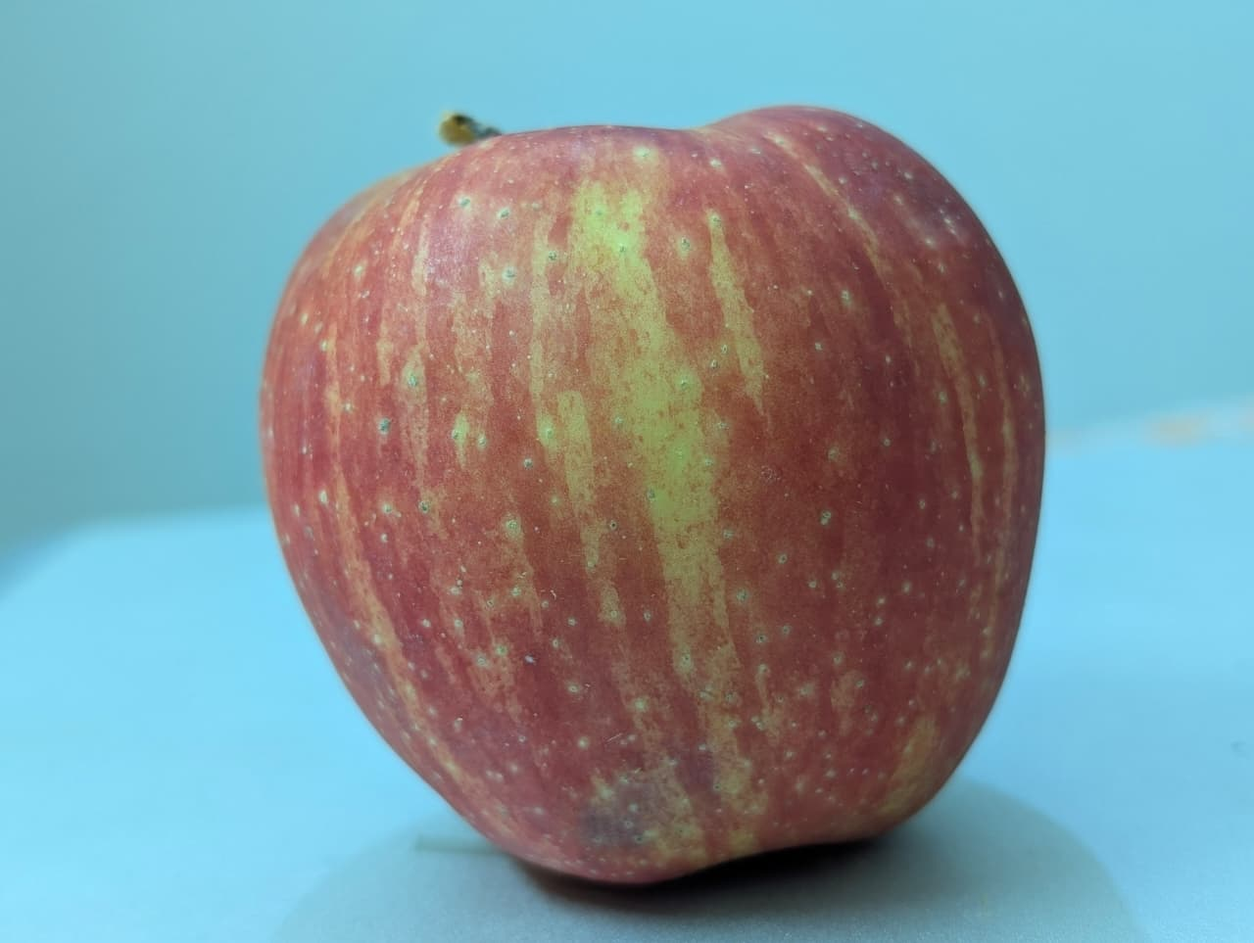apple: (154, 0, 1245, 830)
